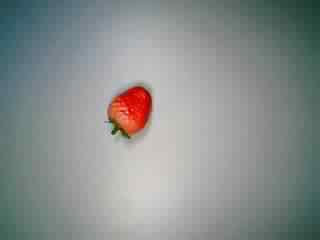strawberry: (91, 78, 164, 145)
